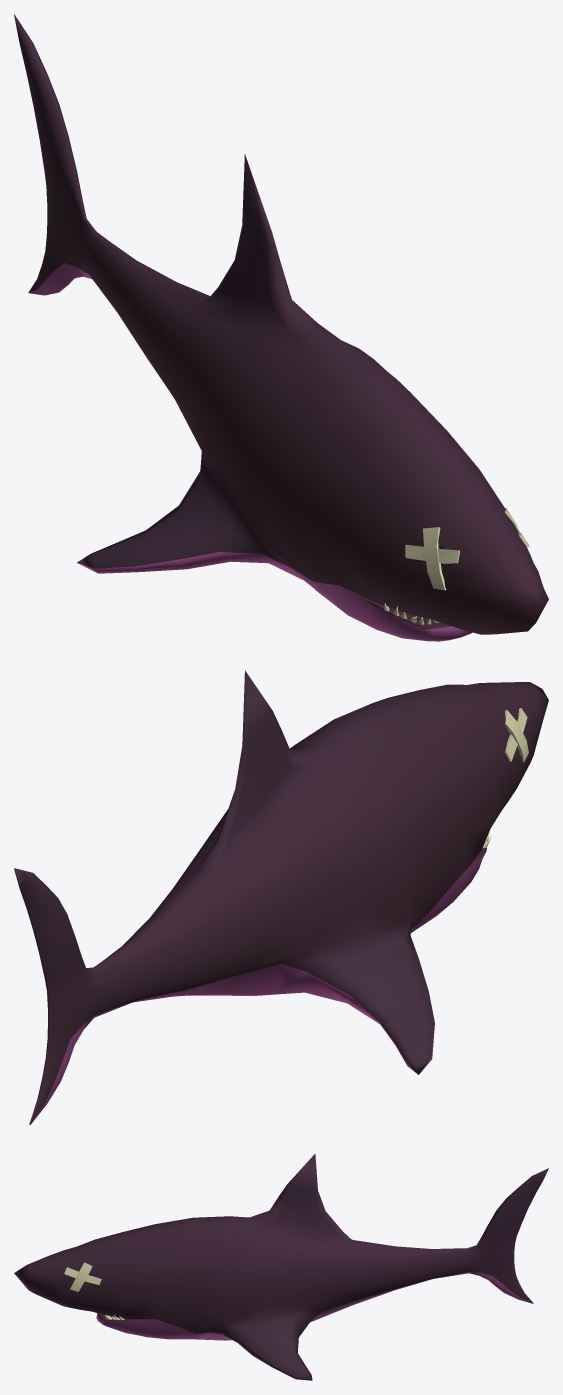
File: shark.fbx
3 renders of one model, top to bottom at view 1: azimuth 30°, elevation 25°; view 2: azimuth 150°, elevation 25°; view 3: azimuth 270°, elevation 25°, orthographic. The views are drawn at different scales.
Parts seen in each view (by area): view 1: shark; view 2: shark; view 3: shark.
Boxes of the visible parts, box(x1,y1,x2,y2) form: shark: box(14, 14, 548, 641); shark: box(14, 670, 548, 1124); shark: box(14, 1154, 548, 1380).
Size of the model in its own units: 73.77 by 75.45 by 197.
